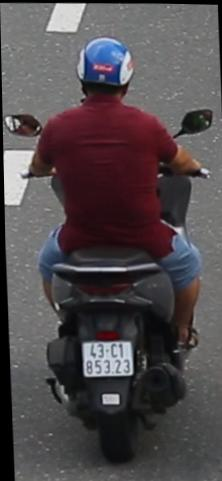LP: (77, 335, 136, 380)
helmet: (72, 33, 143, 110)
